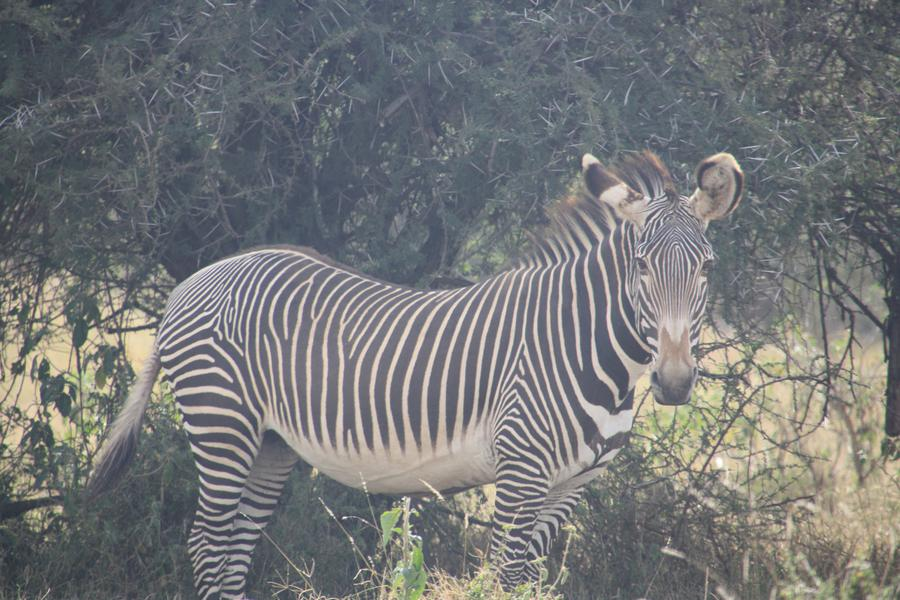zebra_grevys: (172, 229, 590, 459)
